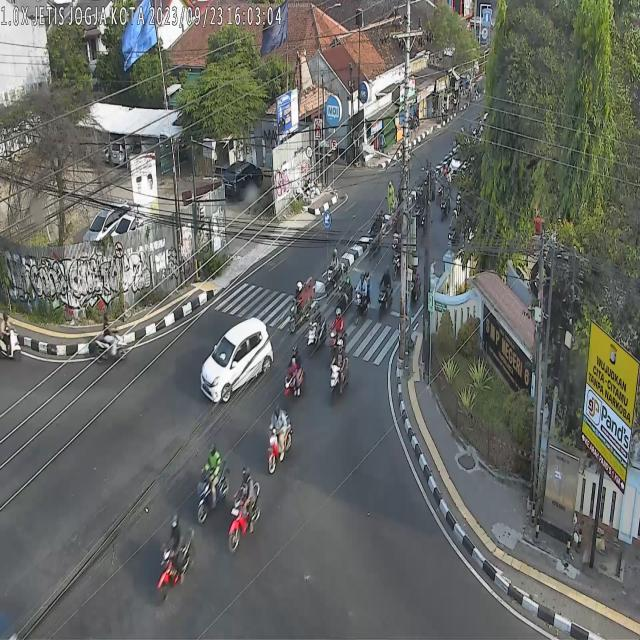car: (200, 317, 274, 405)
motorcycle: (157, 512, 194, 602), (228, 464, 262, 556), (196, 439, 230, 524), (268, 402, 293, 474), (94, 315, 126, 363), (282, 343, 306, 400), (328, 336, 349, 400), (306, 301, 326, 356), (0, 311, 22, 361), (290, 280, 311, 332), (354, 270, 371, 327), (377, 265, 393, 320), (336, 264, 352, 317), (326, 248, 342, 295), (446, 208, 460, 248), (439, 182, 452, 222), (414, 186, 425, 229), (369, 214, 379, 261)
